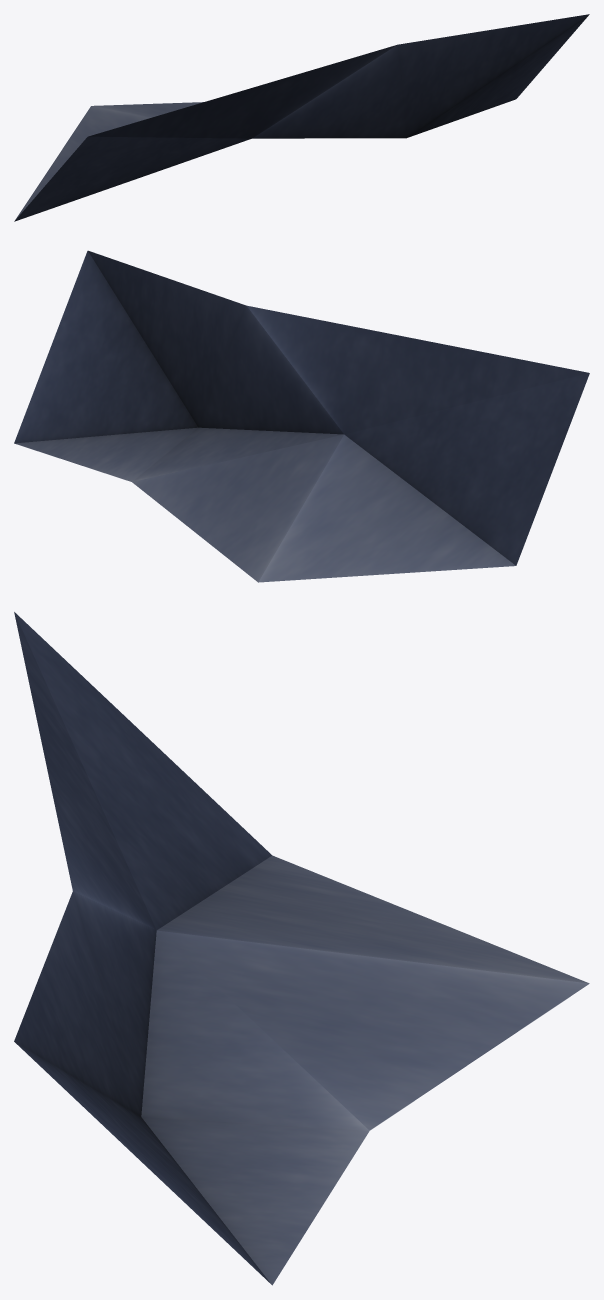
Rendered from SM_Floor_Edge_A_A.fbx.
3 views of the same model, one above another, from view 1: azimuth 30°, elevation 25°; view 2: azimuth 150°, elevation 25°; view 3: azimuth 270°, elevation 25° (orthographic). The views are drawn at different scales.
Parts seen in each view (by area): view 1: pCube197; view 2: pCube197; view 3: pCube197.
Boxes of the visible parts, bbox=[...] form: pCube197: bbox=[14, 14, 589, 221]; pCube197: bbox=[14, 250, 589, 582]; pCube197: bbox=[14, 612, 589, 1285].
Bounding box in the file's own units: 1 × 0.2646 × 0.5659.
